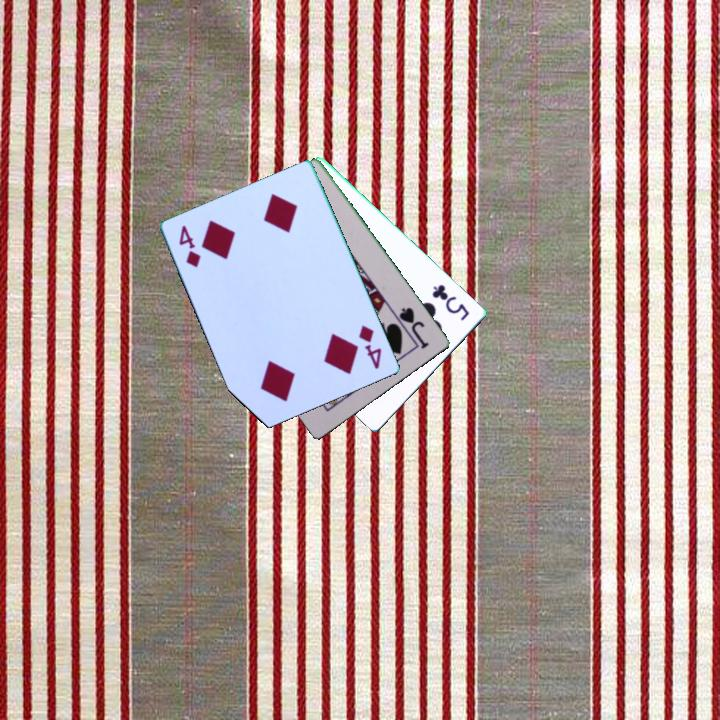4d: (355, 322, 385, 372), (176, 222, 204, 271)
5c: (429, 281, 473, 324)
Js: (396, 303, 432, 352)
